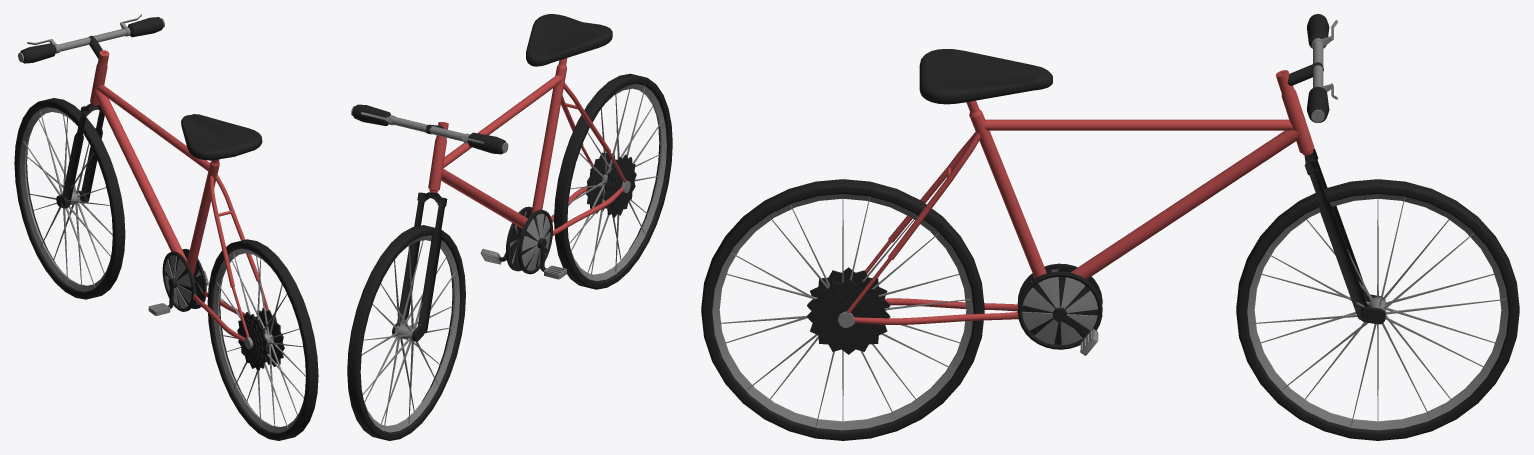
File: BISIKLET.fbx
The picture shows the model from 3 angles, left to right: view 1: azimuth 30°, elevation 25°; view 2: azimuth 150°, elevation 25°; view 3: azimuth 270°, elevation 25°; orthographic projection. The views are drawn at different scales.
Parts seen in each view (by area): view 1: Cube.001; view 2: Cube.001; view 3: Cube.001.
Boxes of the visible parts, x1,y1,x2,y2 form: Cube.001: [14, 14, 318, 440]; Cube.001: [347, 14, 672, 440]; Cube.001: [701, 14, 1519, 440].
Size of the model in its own units: 79.05 by 146 by 285.
